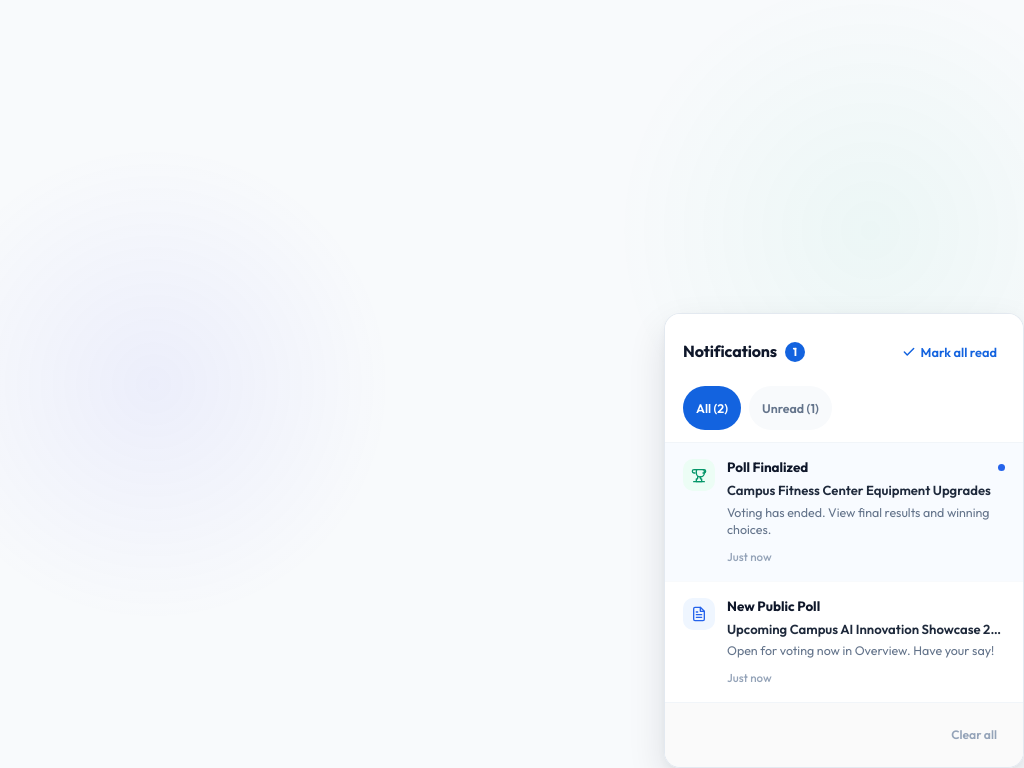
Test: NotificationDropdown › filters unread notifications when Unread tab is clicked
The image size is (1024, 768).
(page scrolled)
Click the button "Unread (1)" at {"x": 790, "y": 408}, box [749,386,832,430]
(page scrolled)
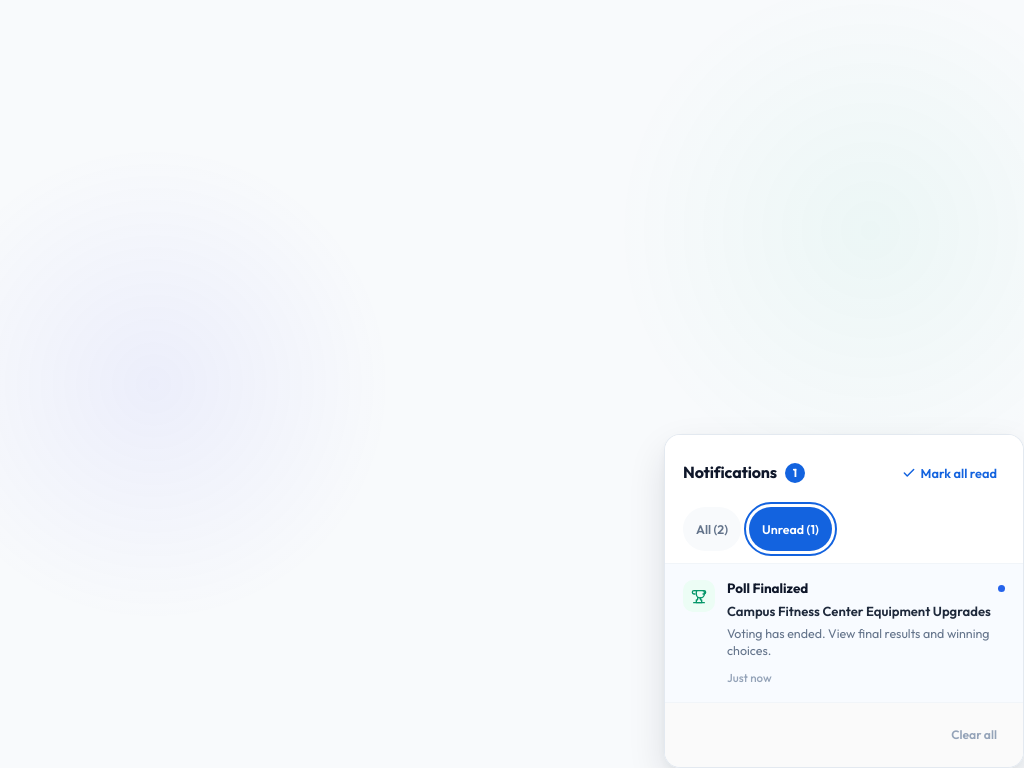
Check: the text "Campus Fitness Center Equipment Upgrades" is shown, box [727,601,1005,622]
Check: the button "Upcoming Campus AI Innovation Showcase 2026" is gone
